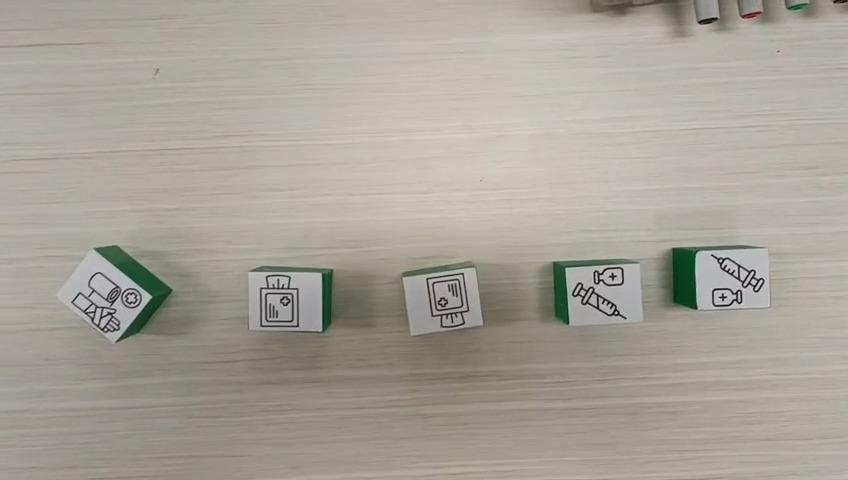Bandages: (54, 244, 172, 343)
Gauze: (401, 259, 486, 335), (248, 264, 335, 333)
antiseptic cream: (671, 245, 772, 311), (551, 257, 645, 325)
